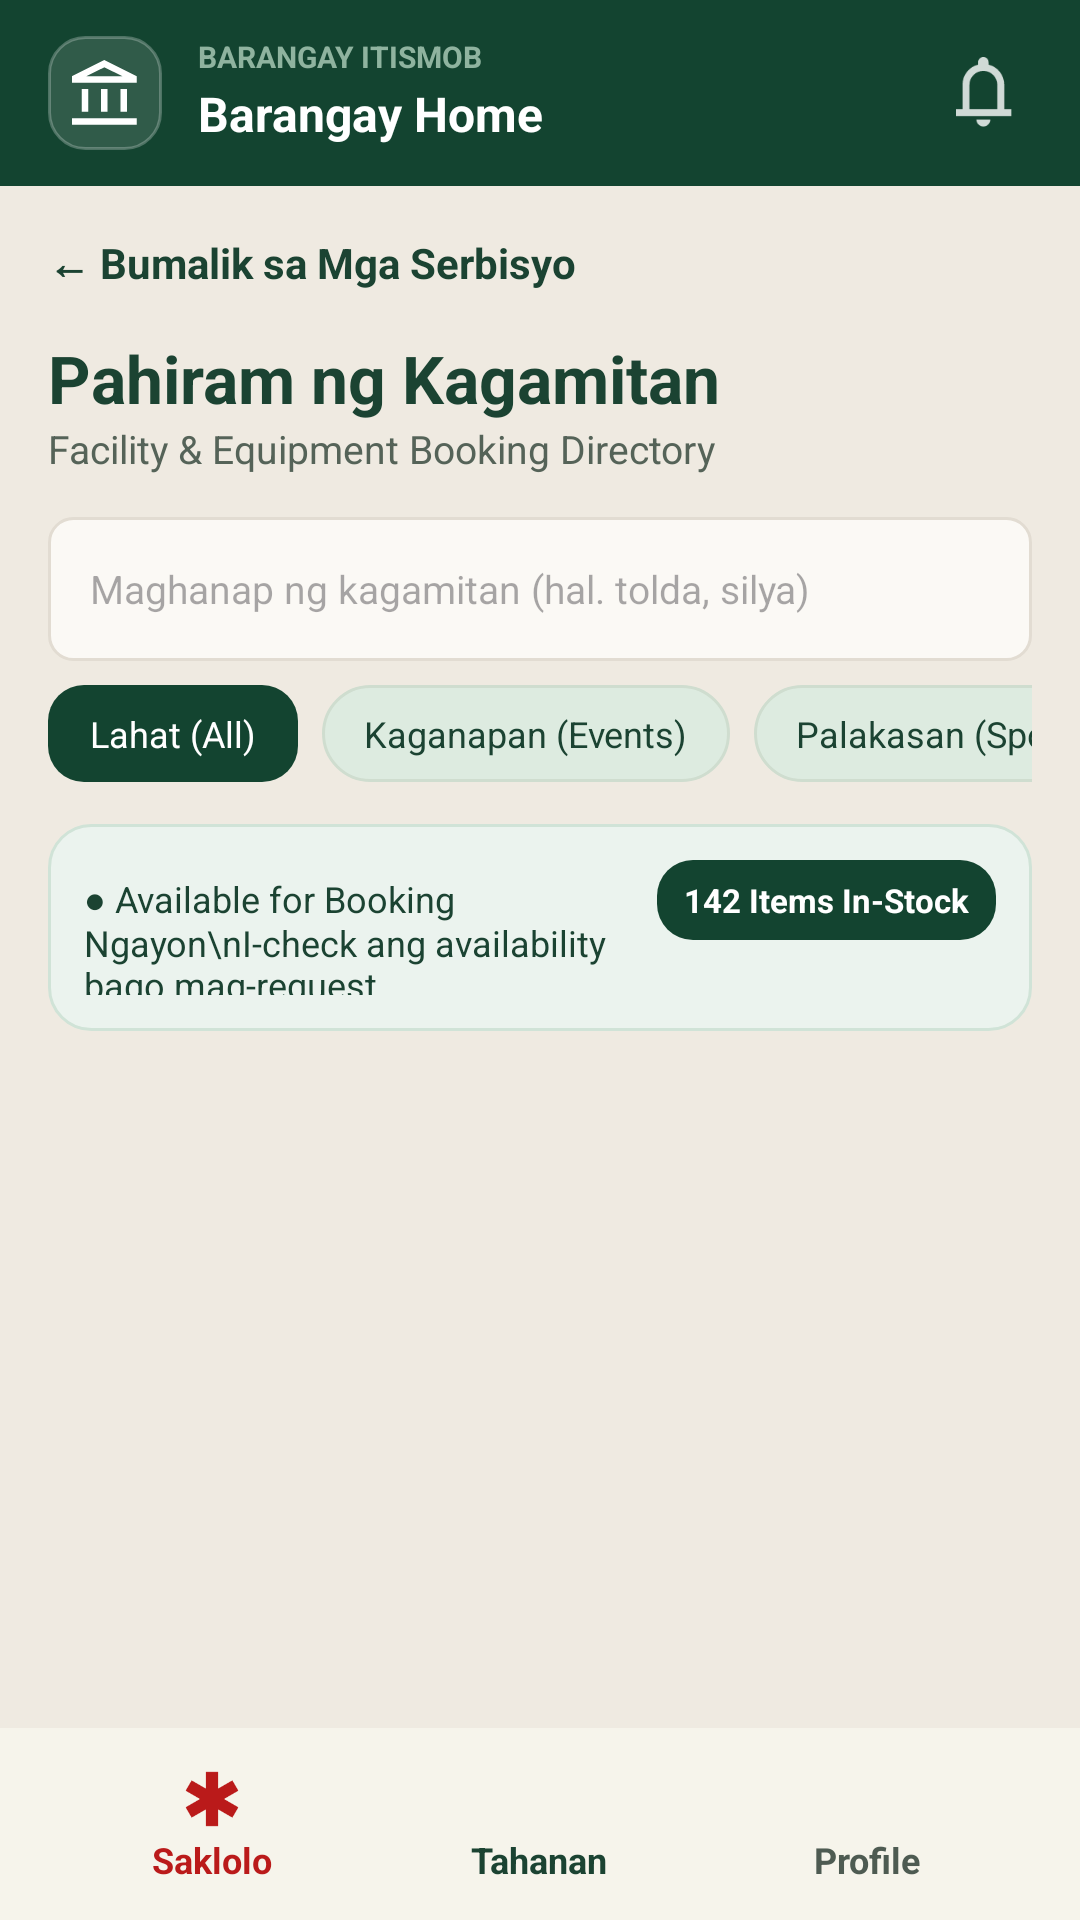

Point at icon controls on the screen. Image size 1080px×1920px, points as point (x, y).
asterisk: point (212, 1799)
Notifications: point (984, 92)
